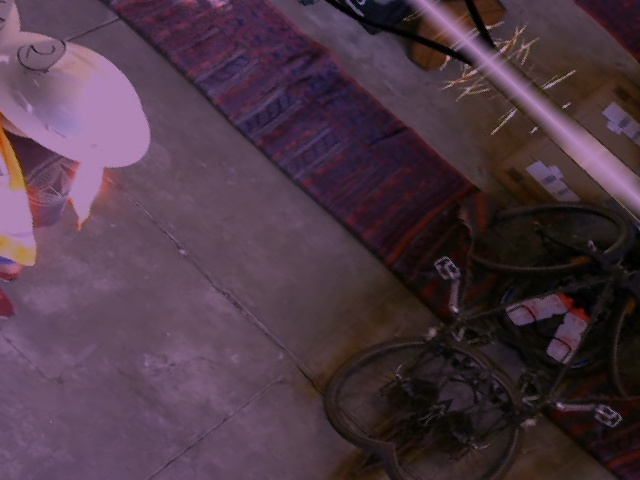two: (10, 25, 74, 78)
